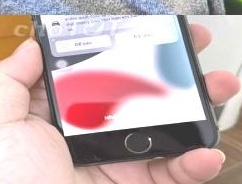scratch: (81, 150, 103, 162), (145, 134, 155, 144)
